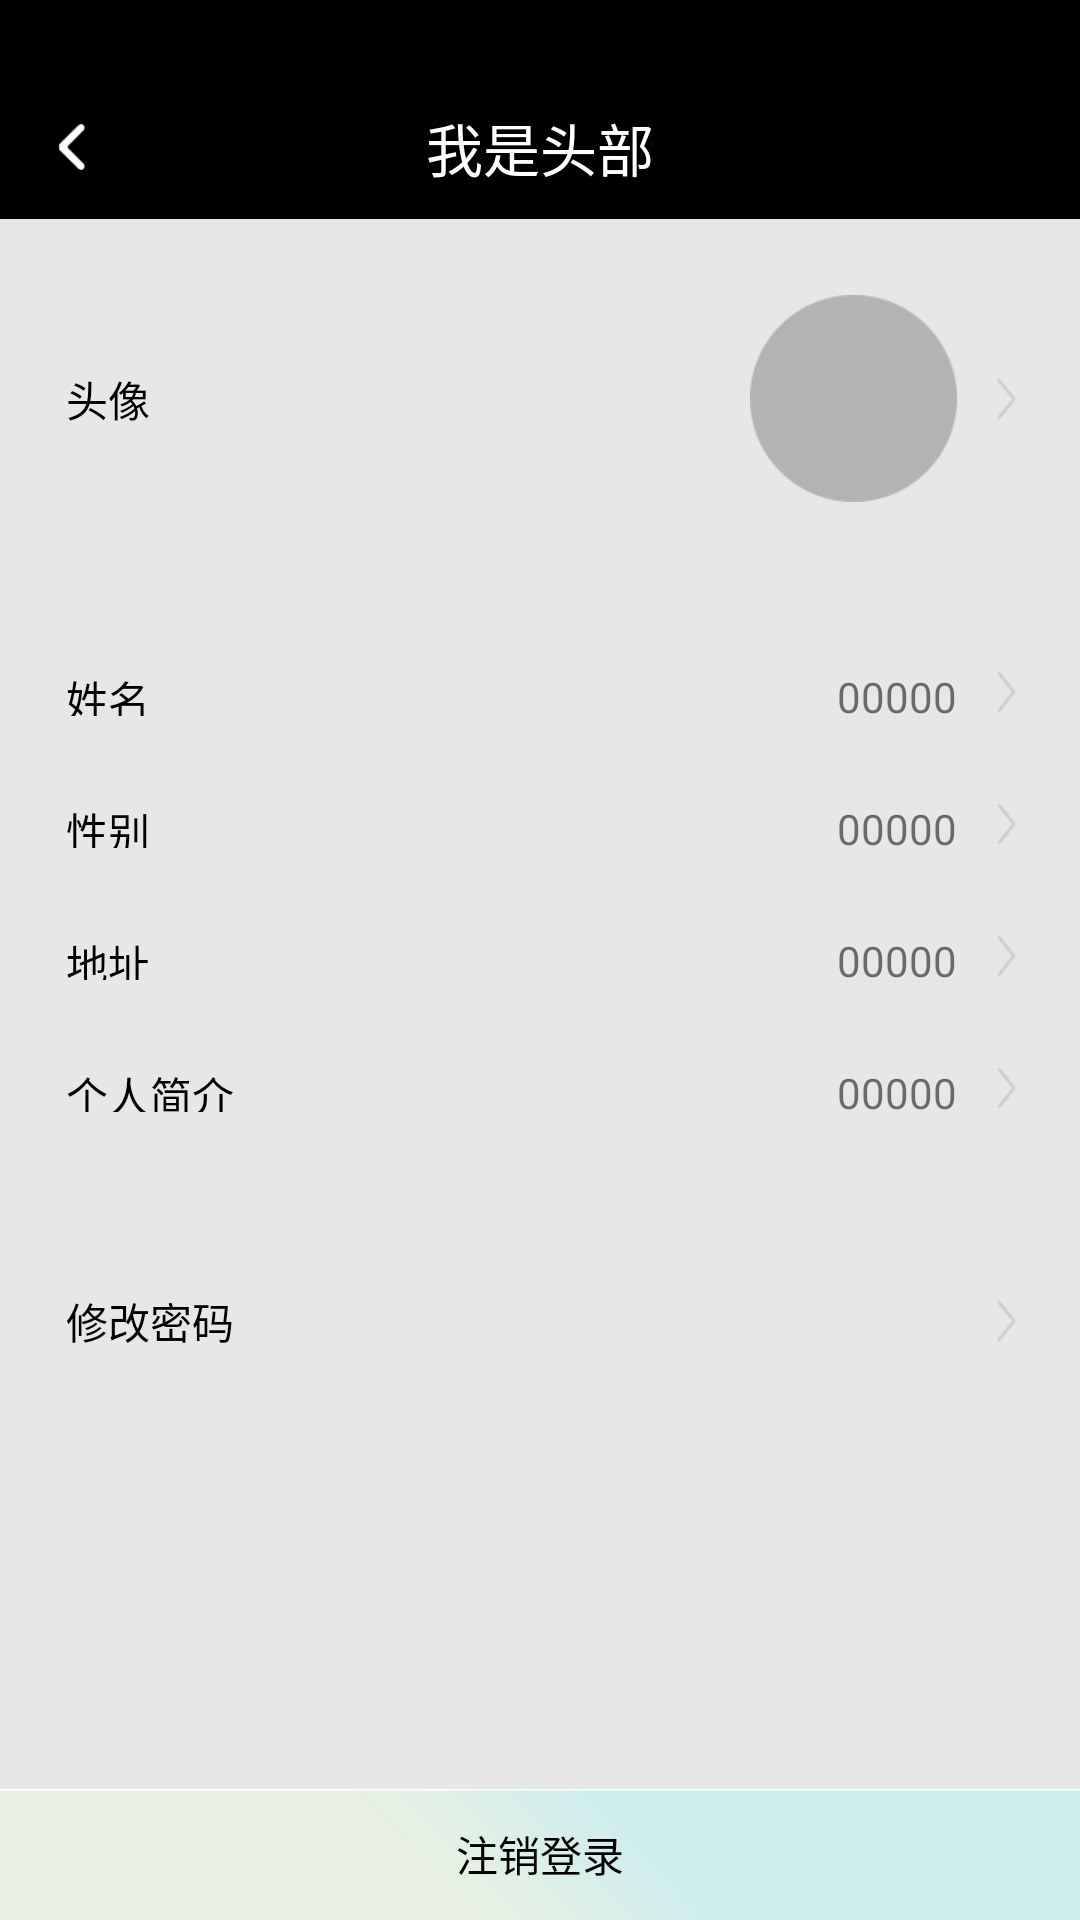

Icons on this 1080 × 1920 Android screen, each with the point to tap as [x,y]:
title back: [72,147]
user update more: [1006,399], [1006,692], [1006,824], [1006,956], [1006,1088], [1006,1321]
